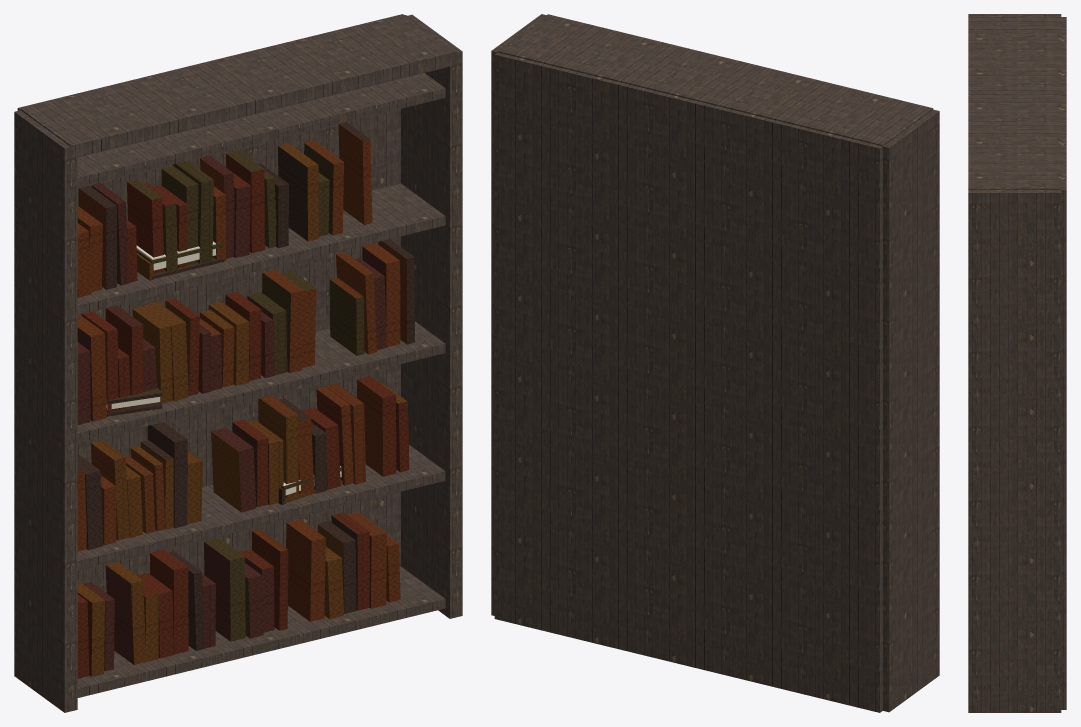
Rendered from case.glb.
3 views of the same model, side by side, from view 1: azimuth 30°, elevation 25°; view 2: azimuth 150°, elevation 25°; view 3: azimuth 270°, elevation 25° (orthographic). The views are drawn at different scales.
Visible parts, largest first — view 1: case; view 2: case; view 3: case.
Part boxes in pixels (x1=…): case: x1=14, y1=14, x2=462, y2=712; case: x1=491, y1=14, x2=939, y2=712; case: x1=968, y1=14, x2=1066, y2=712.
Bounding box in the file's own units: 1.55 × 2.11 × 0.36.
3 materials, 2 textured.
